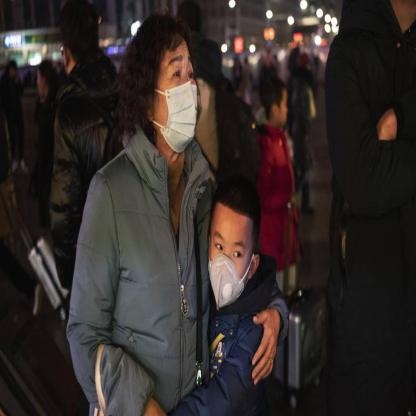Not_Wearing_Mask: (276, 94, 289, 125)
Wearing_Mask: (154, 50, 197, 154), (206, 228, 251, 311)
